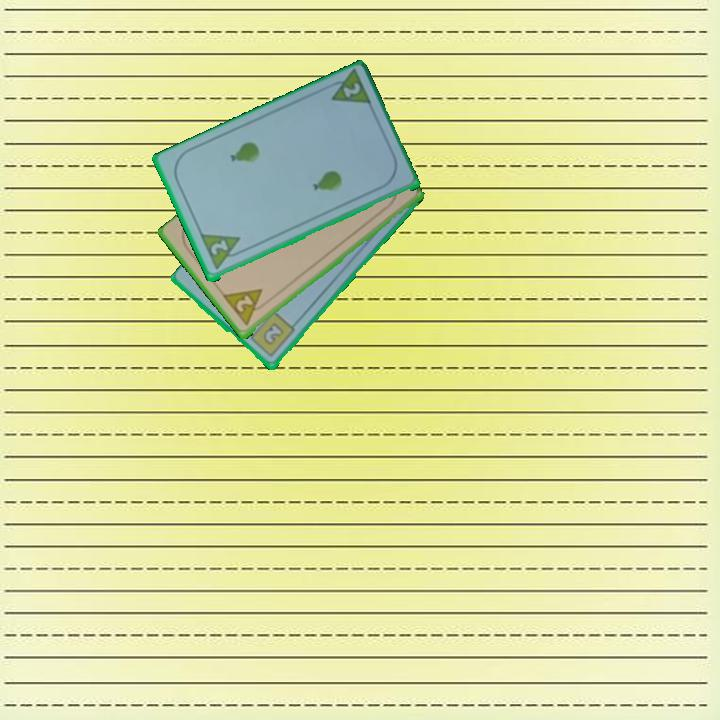2b: (243, 308, 298, 360)
2p: (321, 67, 375, 110), (220, 285, 272, 329), (207, 236, 231, 259)
